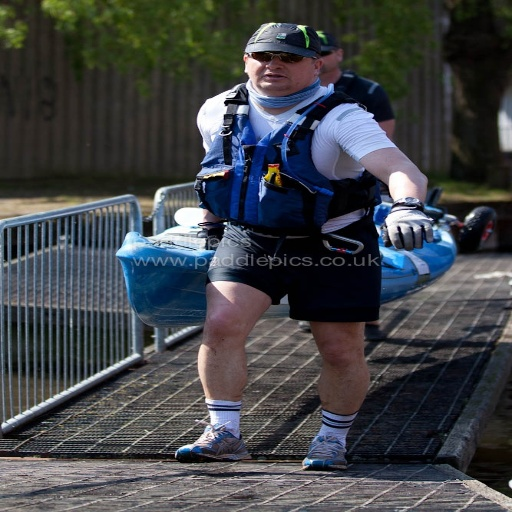hand: (393, 205, 446, 253)
